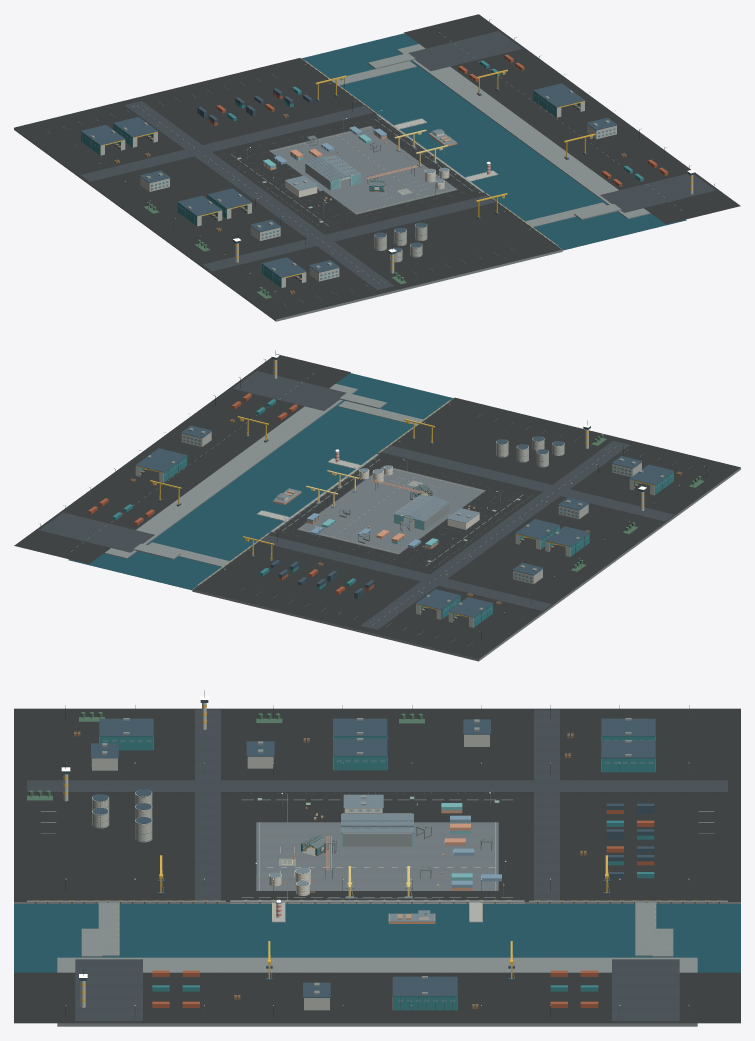
3 views of the same model, one above another, from view 1: azimuth 30°, elevation 25°; view 2: azimuth 150°, elevation 25°; view 3: azimuth 270°, elevation 25° (orthographic). The views are drawn at different scales.
Visible parts, largest first — view 1: Runtime FPV textured terrain harborworks, Runtime Expansion harbour water, Runtime Expansion asphalt, Runtime Expansion concrete, Runtime Asphalt, Runtime Expansion blue steel, Runtime Expansion wall ivory, Runtime Steel, Runtime Expansion workshop teal, Runtime Dark concrete, Runtime Expansion safety ochre, Runtime Ivory (+1 smaller); view 2: Runtime FPV textured terrain harborworks, Runtime Expansion harbour water, Runtime Expansion asphalt, Runtime Expansion concrete, Runtime Asphalt, Runtime Expansion blue steel, Runtime Expansion wall ivory, Runtime Steel, Runtime Expansion workshop teal, Runtime Dark concrete, Runtime Expansion safety ochre, Runtime Expansion oxide red (+1 smaller); view 3: Runtime FPV textured terrain harborworks, Runtime Expansion harbour water, Runtime Expansion asphalt, Runtime Expansion concrete, Runtime Asphalt, Runtime Expansion blue steel, Runtime Expansion workshop teal, Runtime Steel, Runtime Dark concrete, Runtime Expansion wall ivory, Runtime Expansion oxide red, Runtime Oxide (+6 smaller).
Part boxes in pixels (x1=…): Runtime FPV textured terrain harborworks: x1=14, y1=14, x2=740, y2=319; Runtime Expansion harbour water: x1=302, y1=33, x2=686, y2=250; Runtime Expansion asphalt: x1=81, y1=31, x2=715, y2=289; Runtime Expansion concrete: x1=14, y1=44, x2=650, y2=321; Runtime Asphalt: x1=269, y1=126, x2=457, y2=214; Runtime Expansion blue steel: x1=48, y1=19, x2=715, y2=301; Runtime Expansion wall ivory: x1=100, y1=101, x2=693, y2=287; Runtime Steel: x1=227, y1=111, x2=496, y2=225; Runtime Expansion workshop teal: x1=81, y1=60, x2=643, y2=287; Runtime Dark concrete: x1=231, y1=114, x2=484, y2=226; Runtime Expansion safety ochre: x1=100, y1=62, x2=693, y2=277; Runtime Ivory: x1=273, y1=132, x2=490, y2=197; Runtime FPV textured terrain harborworks: x1=14, y1=354, x2=740, y2=659; Runtime Expansion harbour water: x1=68, y1=373, x2=453, y2=590; Runtime Expansion asphalt: x1=39, y1=371, x2=673, y2=629; Runtime Expansion concrete: x1=104, y1=384, x2=740, y2=661; Runtime Asphalt: x1=297, y1=465, x2=485, y2=554; Runtime Expansion blue steel: x1=40, y1=350, x2=706, y2=641; Runtime Expansion wall ivory: x1=135, y1=359, x2=654, y2=627; Runtime Steel: x1=263, y1=450, x2=526, y2=564; Runtime Expansion workshop teal: x1=112, y1=399, x2=673, y2=627; Runtime Dark concrete: x1=270, y1=454, x2=523, y2=565; Runtime Expansion safety ochre: x1=137, y1=361, x2=654, y2=617; Runtime Expansion oxide red: x1=88, y1=393, x2=374, y2=594; Runtime FPV textured terrain harborworks: x1=14, y1=708, x2=740, y2=1023; Runtime Expansion harbour water: x1=14, y1=904, x2=740, y2=972; Runtime Expansion asphalt: x1=27, y1=709, x2=727, y2=1021; Runtime Expansion concrete: x1=14, y1=718, x2=740, y2=1026; Runtime Asphalt: x1=256, y1=822, x2=498, y2=890; Runtime Expansion blue steel: x1=35, y1=690, x2=719, y2=1017; Runtime Expansion workshop teal: x1=99, y1=736, x2=655, y2=1010; Runtime Steel: x1=245, y1=791, x2=509, y2=921; Runtime Dark concrete: x1=230, y1=794, x2=524, y2=903; Runtime Expansion wall ivory: x1=63, y1=703, x2=655, y2=1010; Runtime Expansion oxide red: x1=152, y1=810, x2=654, y2=1007; Runtime Oxide: x1=281, y1=803, x2=472, y2=923.
Bounding box in the file's own units: 860 × 57 × 840.
48 materials, 23 textured.
